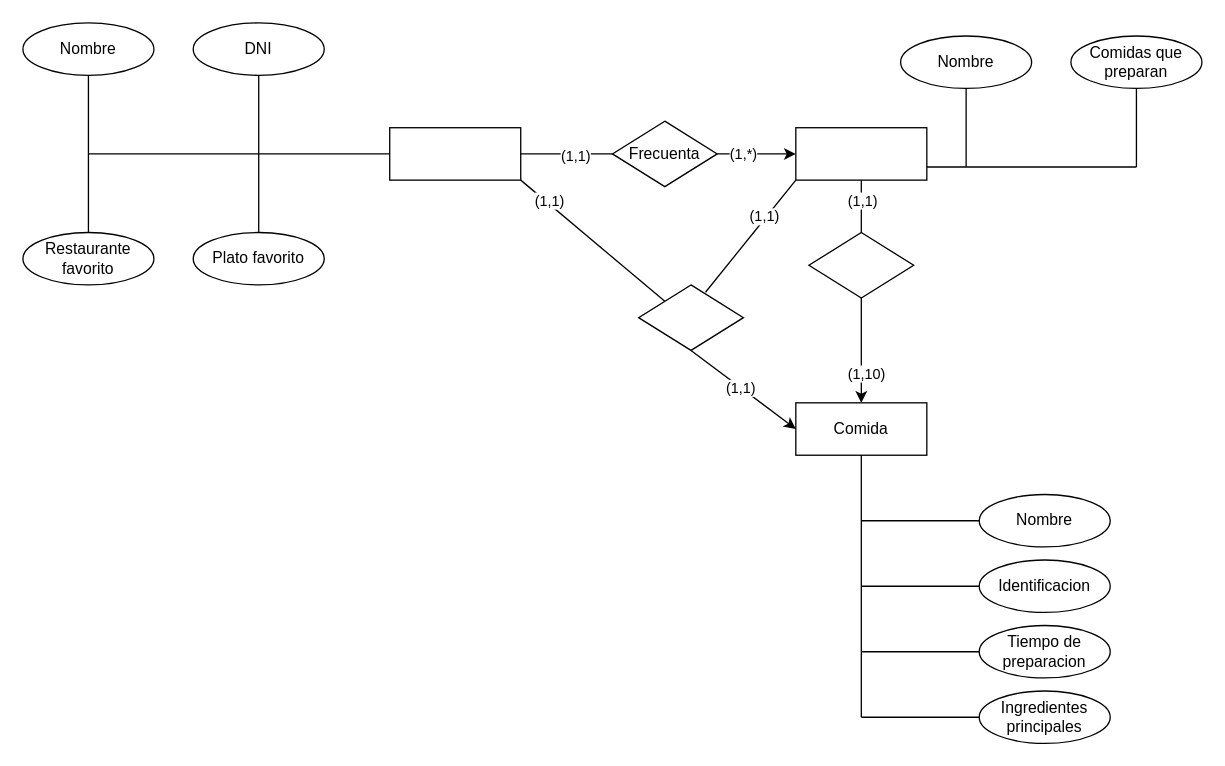
The diagram is 1225 pixels wide and 766 high, and some of its shapes have lost their labels. Each missing label, with the box of its shape:
Cadena de restaurantes: (795, 126, 927, 180)
Le gusta: (637, 284, 743, 350)
Persona: (388, 126, 521, 180)
Vende: (808, 231, 914, 298)
